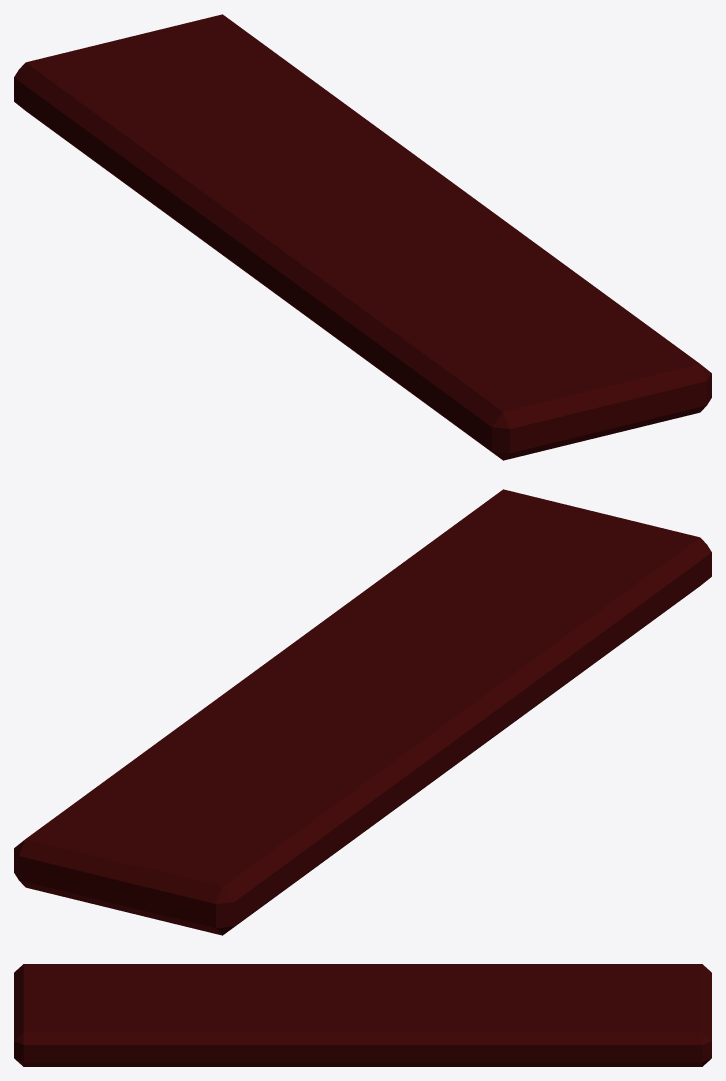
The model's file is Xylophone_Bar_4_modif.FBX.
3 renders of one model, top to bottom at view 1: azimuth 30°, elevation 25°; view 2: azimuth 150°, elevation 25°; view 3: azimuth 270°, elevation 25°, orthographic. The views are drawn at different scales.
Visible parts, largest first — view 1: Xylophone_Bar_4; view 2: Xylophone_Bar_4; view 3: Xylophone_Bar_4.
Part boxes in pixels (x1=…): Xylophone_Bar_4: x1=14, y1=14, x2=711, y2=460; Xylophone_Bar_4: x1=14, y1=489, x2=711, y2=935; Xylophone_Bar_4: x1=14, y1=964, x2=711, y2=1066.
Size of what is drawn, in the model's own units: 1.09 by 4.21 by 0.2297.
